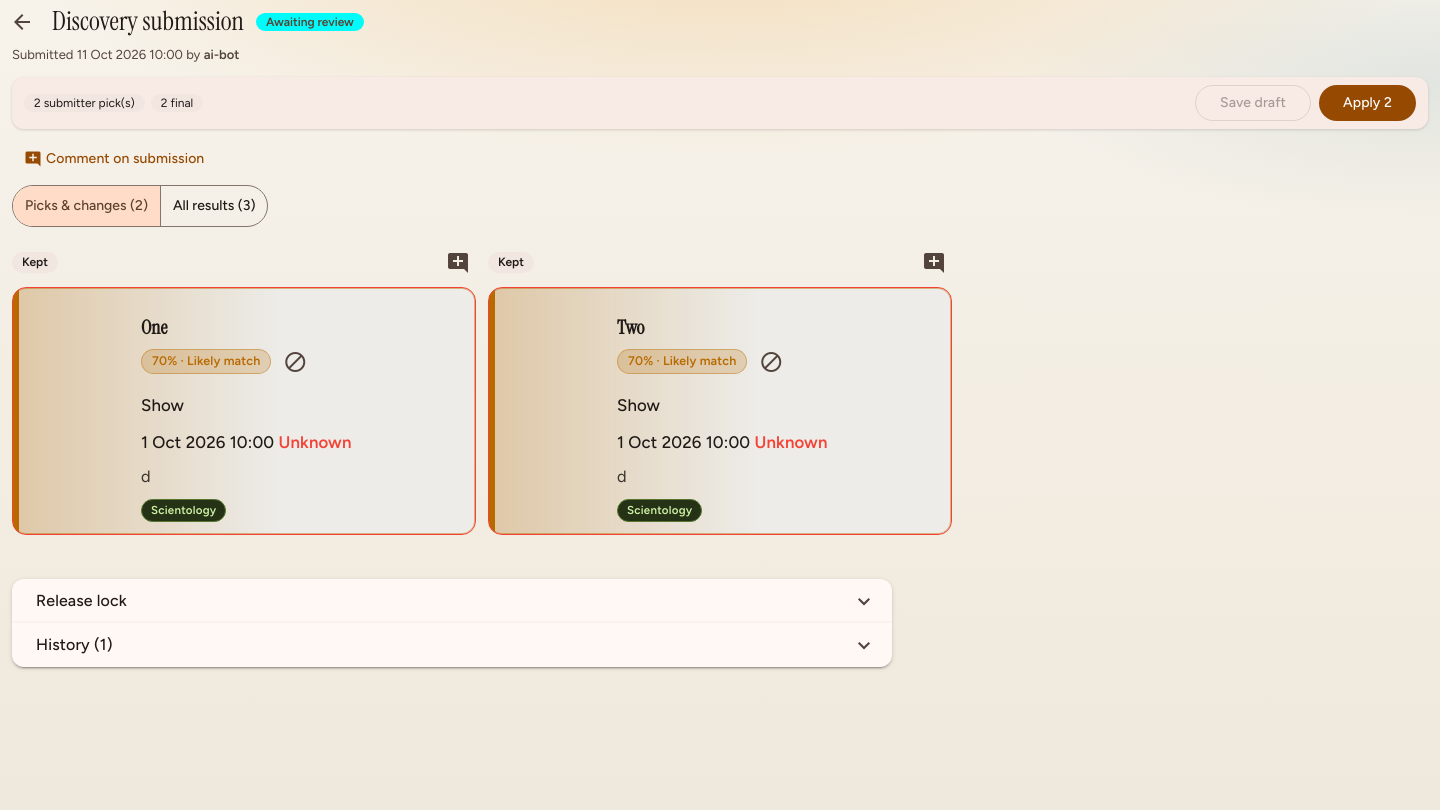
DiscoverySubmissionDetailComponent › hides comment boxes until asked for, so the review grid stays uncluttered
The image size is (1440, 810).
Click the 1st button with class "add-item-comment".
click(458, 263)  # box x1=440 y1=245 x2=476 y2=281
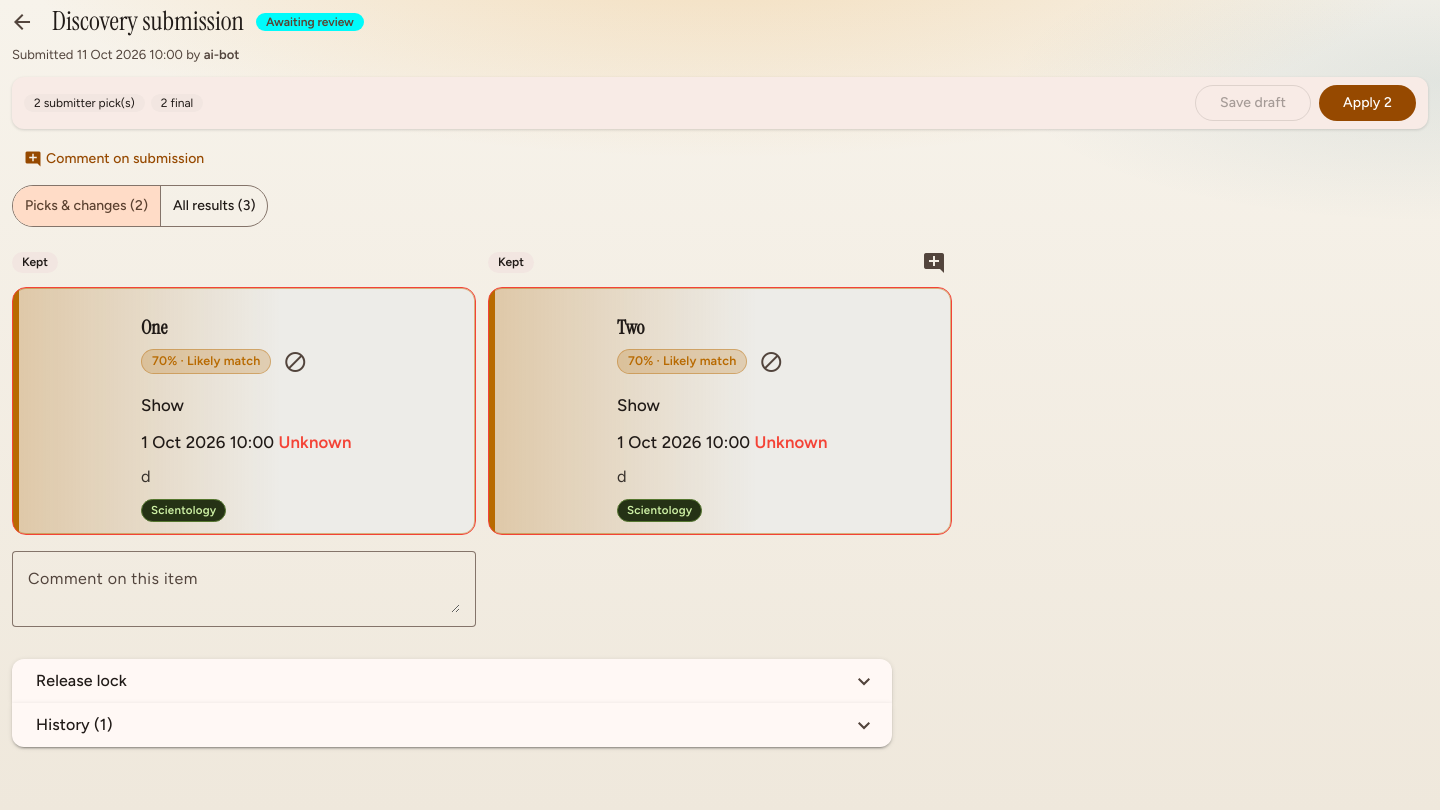
Expected: the text box labelled "Comment on this item" is shown, x1=28 y1=565 x2=460 y2=613
